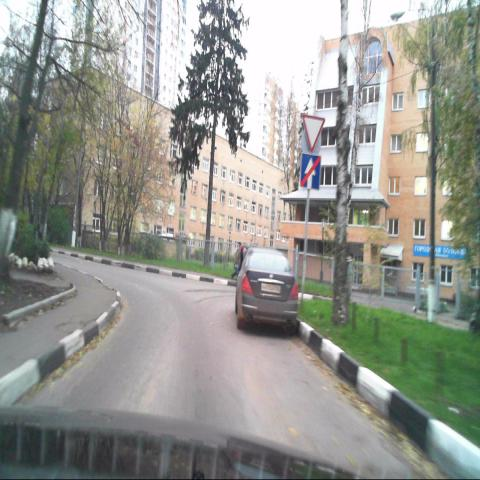5_6: (300, 156, 320, 188)
